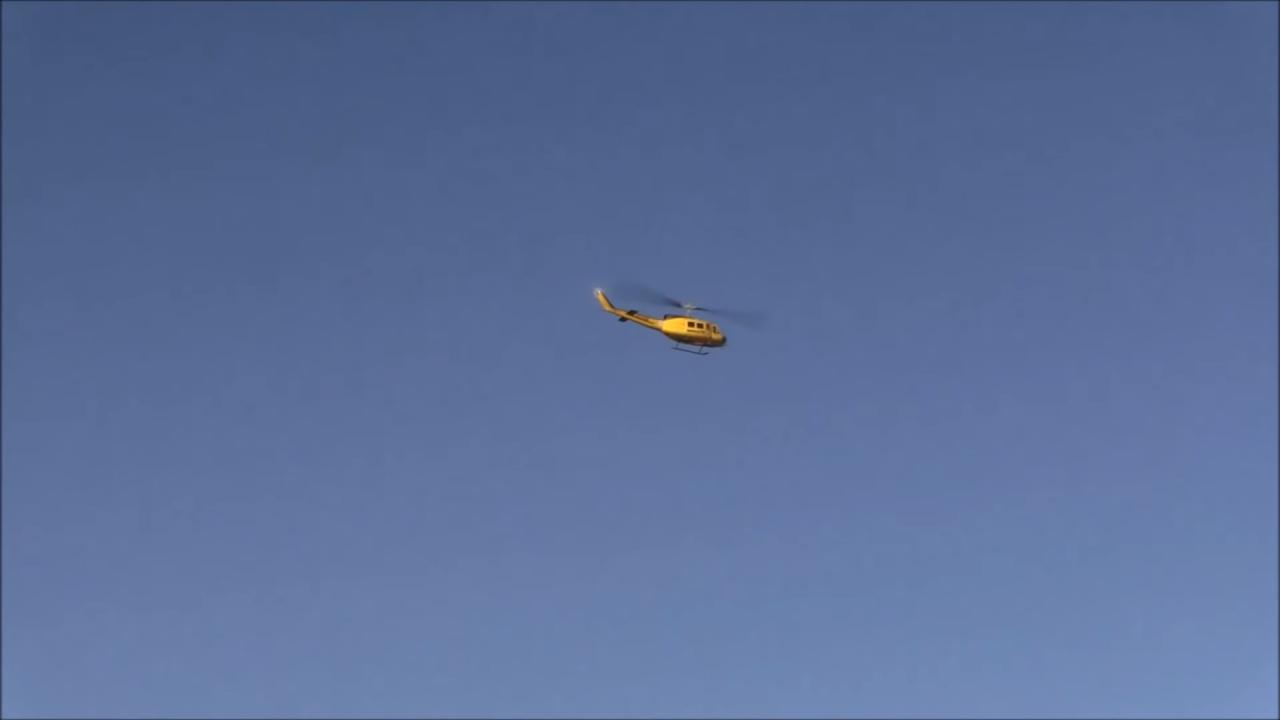Helicopter: (566, 251, 802, 394)
